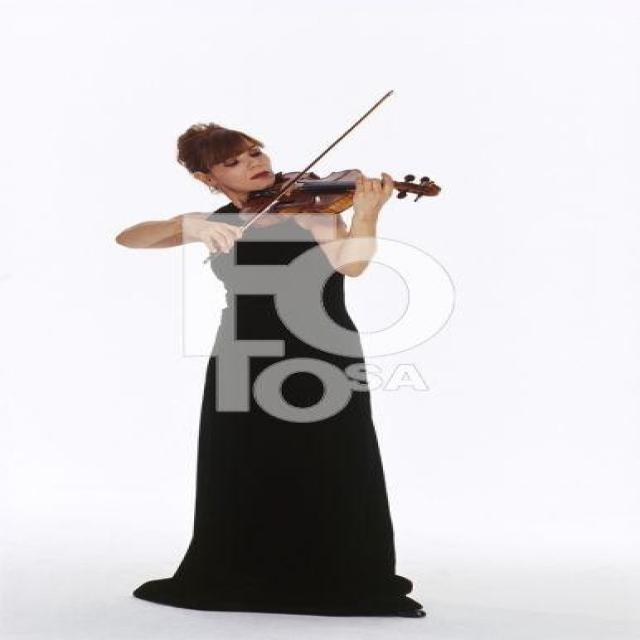violin: (242, 168, 446, 216)
